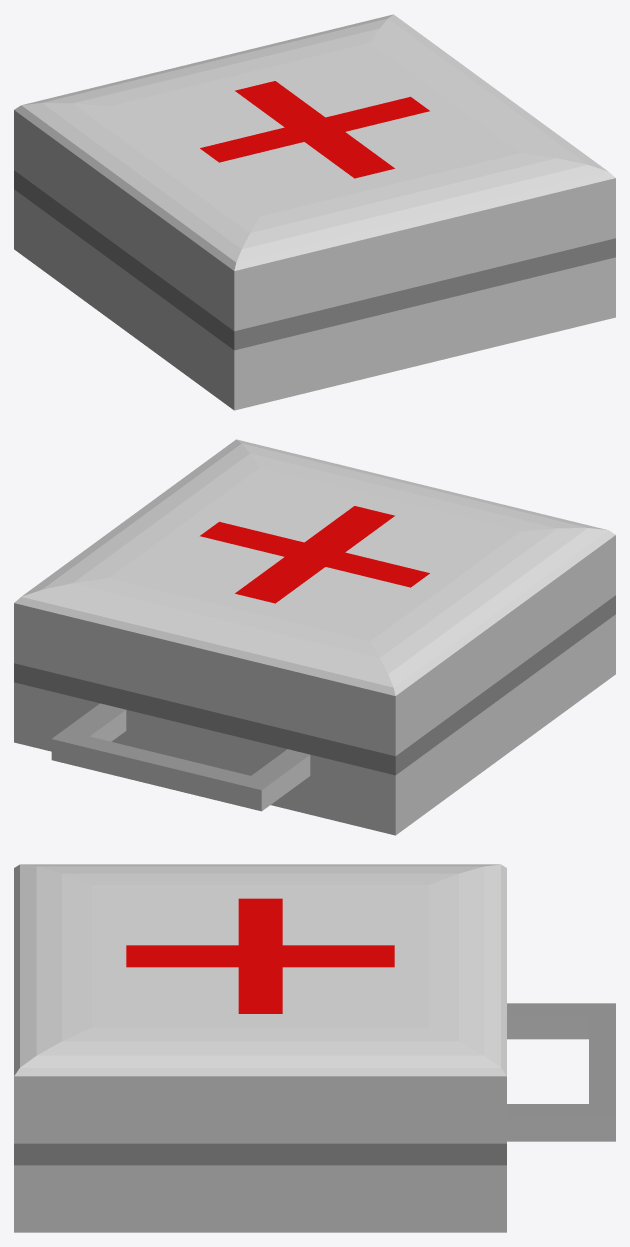
Rendered from botiquin.fbx.
The picture shows the model from 3 angles, top to bottom: view 1: azimuth 30°, elevation 25°; view 2: azimuth 150°, elevation 25°; view 3: azimuth 270°, elevation 25°; orthographic projection. The views are drawn at different scales.
Visible parts, largest first — view 1: Cube; view 2: Cube; view 3: Cube.
Boxes of the visible parts, bbox=[...] form: Cube: bbox=[14, 14, 615, 410]; Cube: bbox=[14, 439, 615, 835]; Cube: bbox=[14, 864, 615, 1232].
Size of the model in its own units: 200 by 76.97 by 244.
